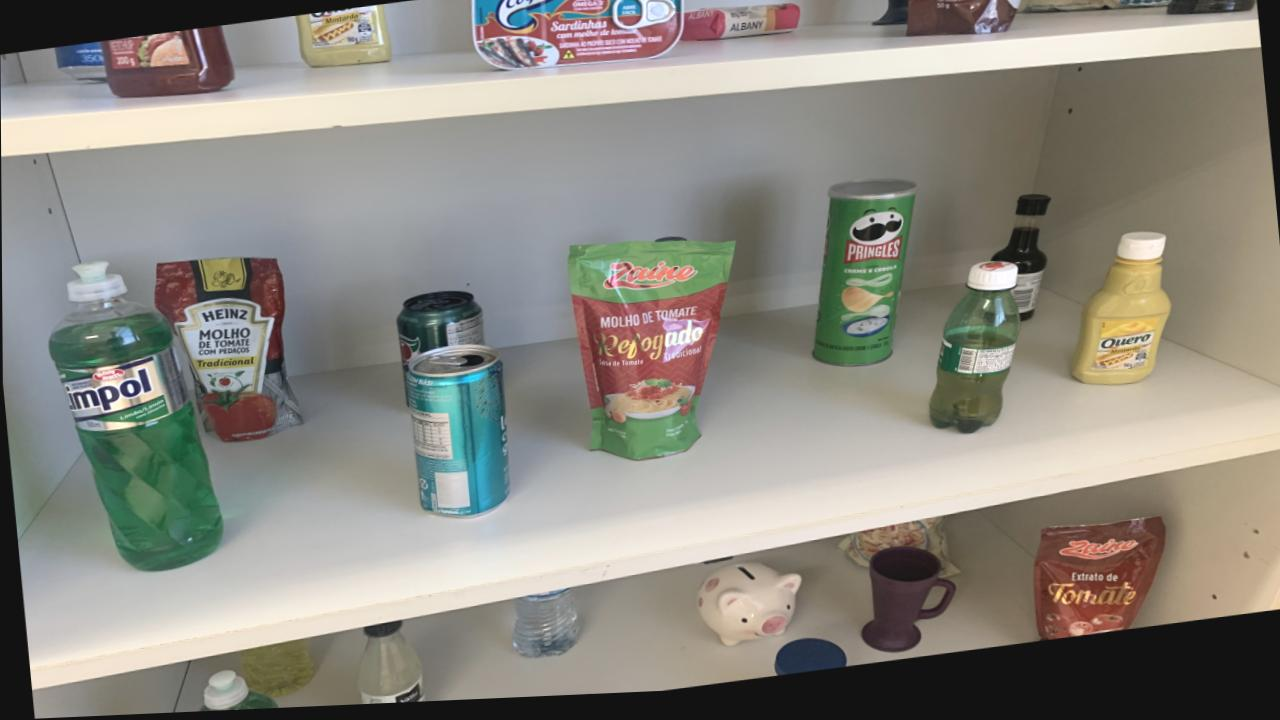Coffee-Pantry_Items: (906, 0, 1026, 45)
Detergent-Cleanup_Items: (48, 263, 222, 573), (239, 641, 311, 700), (199, 673, 277, 713)
English_Sauce-Pantry_Items: (991, 203, 1048, 329), (1166, 0, 1256, 26)
Flakes-Snacks: (838, 525, 959, 587), (1020, 0, 1174, 22)
Guarana-Drinks: (928, 270, 1020, 443)
Guarana_Can-Drinks: (396, 294, 484, 382)
Ketchup-Pantry_Items: (98, 28, 233, 99)
Mayonnaise-Pantry_Items: (773, 645, 845, 683)
Mustard-Pantry_Items: (1069, 242, 1169, 396), (295, 8, 392, 71)
Pig_Safe-Miscellaneous: (695, 569, 799, 653)
Pringles-Snacks: (812, 187, 916, 375)
Soap-Cleanup_Items: (680, 10, 799, 48)
Soda-Drinks: (356, 624, 422, 708)
Tea-Drinks: (404, 349, 509, 522)
Tomato_Sauce-Pantry_Items: (567, 246, 735, 465), (153, 259, 300, 445), (1032, 527, 1165, 649)
Tonic-Drinks: (54, 43, 103, 70)
Tuna_Can-Pantry_Items: (470, 0, 684, 76)
Water_Bottle-Drinks: (511, 593, 577, 662)
